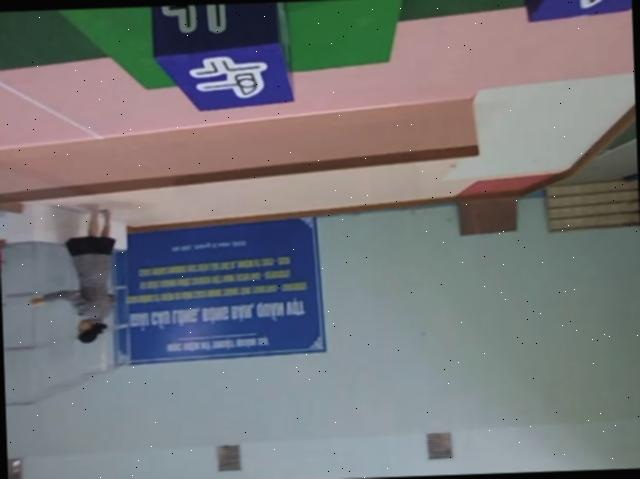R2 Real Blue: (151, 1, 296, 113), (521, 0, 631, 22)
